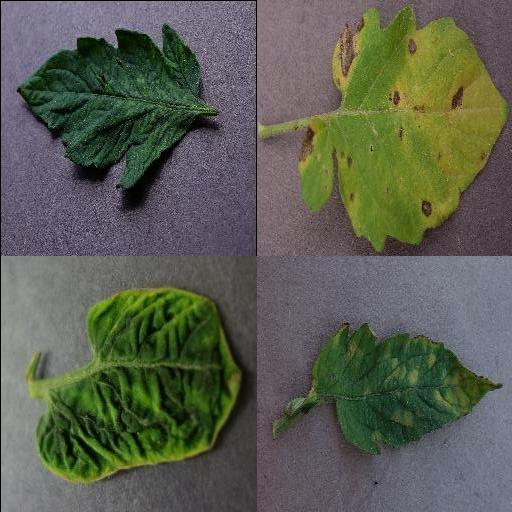Leaf Mold: (310, 321, 502, 456)
Mosaic Virus: (13, 21, 203, 193)
Septoria: (328, 7, 510, 252)
Yellow Leaf Curl Virus: (32, 285, 240, 481)
